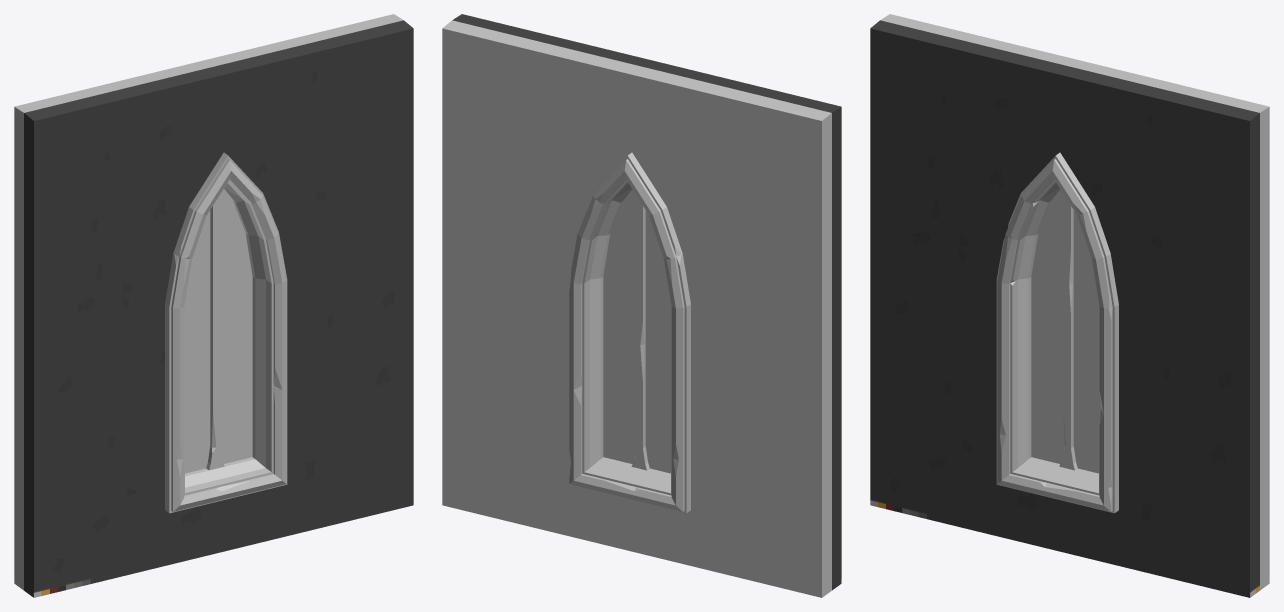
Rendered from SM_Bld_Wall_Church_Window_01.fbx.
3 renders of one model, left to right at view 1: azimuth 30°, elevation 25°; view 2: azimuth 150°, elevation 25°; view 3: azimuth 330°, elevation 25°, orthographic.
Visible parts, largest first — view 1: SM_Bld_Wall_Church_Window_01, SM_Wall_Church_Window_01_Glass; view 2: SM_Bld_Wall_Church_Window_01, SM_Wall_Church_Window_01_Glass; view 3: SM_Bld_Wall_Church_Window_01, SM_Wall_Church_Window_01_Glass.
Boxes of the visible parts, box(x1,y1,x2,y2) form: SM_Bld_Wall_Church_Window_01: box(14, 14, 413, 597); SM_Wall_Church_Window_01_Glass: box(184, 189, 252, 473); SM_Bld_Wall_Church_Window_01: box(442, 14, 841, 597); SM_Wall_Church_Window_01_Glass: box(603, 189, 671, 473); SM_Bld_Wall_Church_Window_01: box(870, 14, 1269, 597); SM_Wall_Church_Window_01_Glass: box(1031, 189, 1098, 473).
Size of the model in its own units: 250 by 301 by 39.43.
